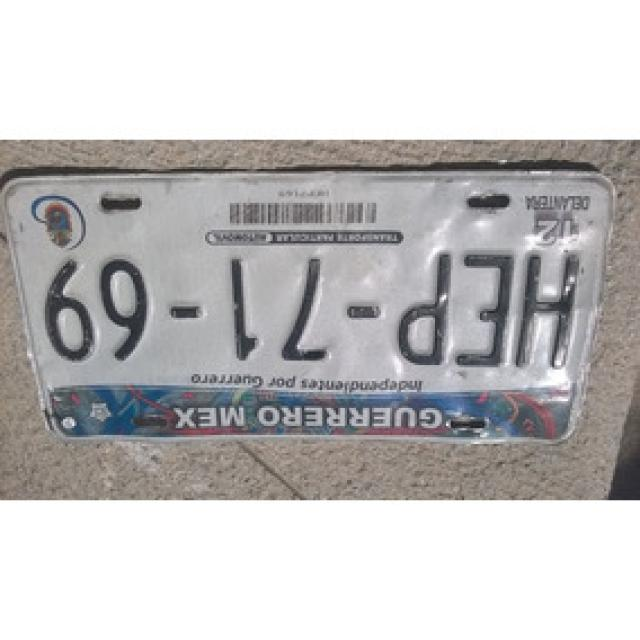placa: (9, 248, 587, 384)
